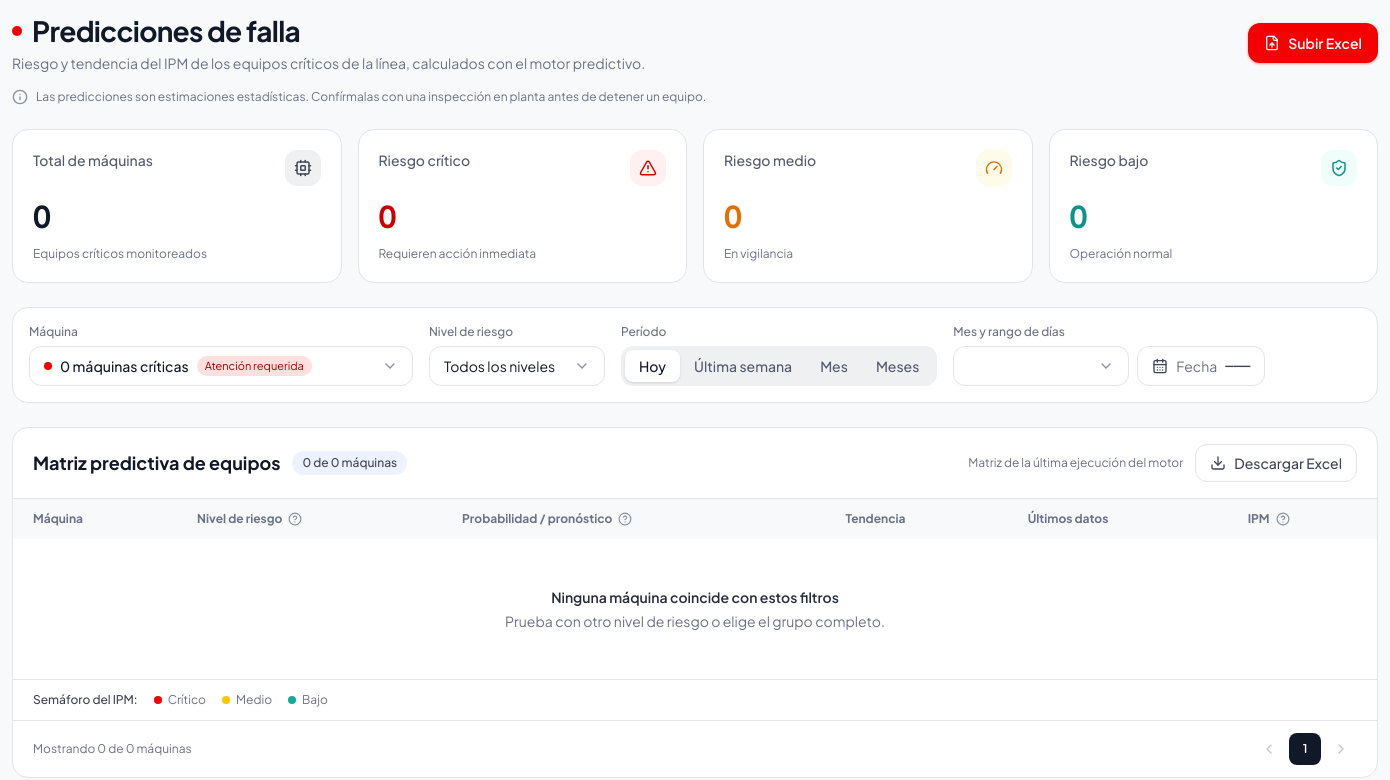
Test: Predicciones · tooltip del encabezado IPM › renderiza InfoTip junto a "IPM" y muestra el texto completo al enfocarlo
Expected: the column heading "IPM" is shown, [1228,499,1377,539]
Focus the element named "¿Qué es el IPM?" at x=1283, y=519, box [1276,512,1290,526]
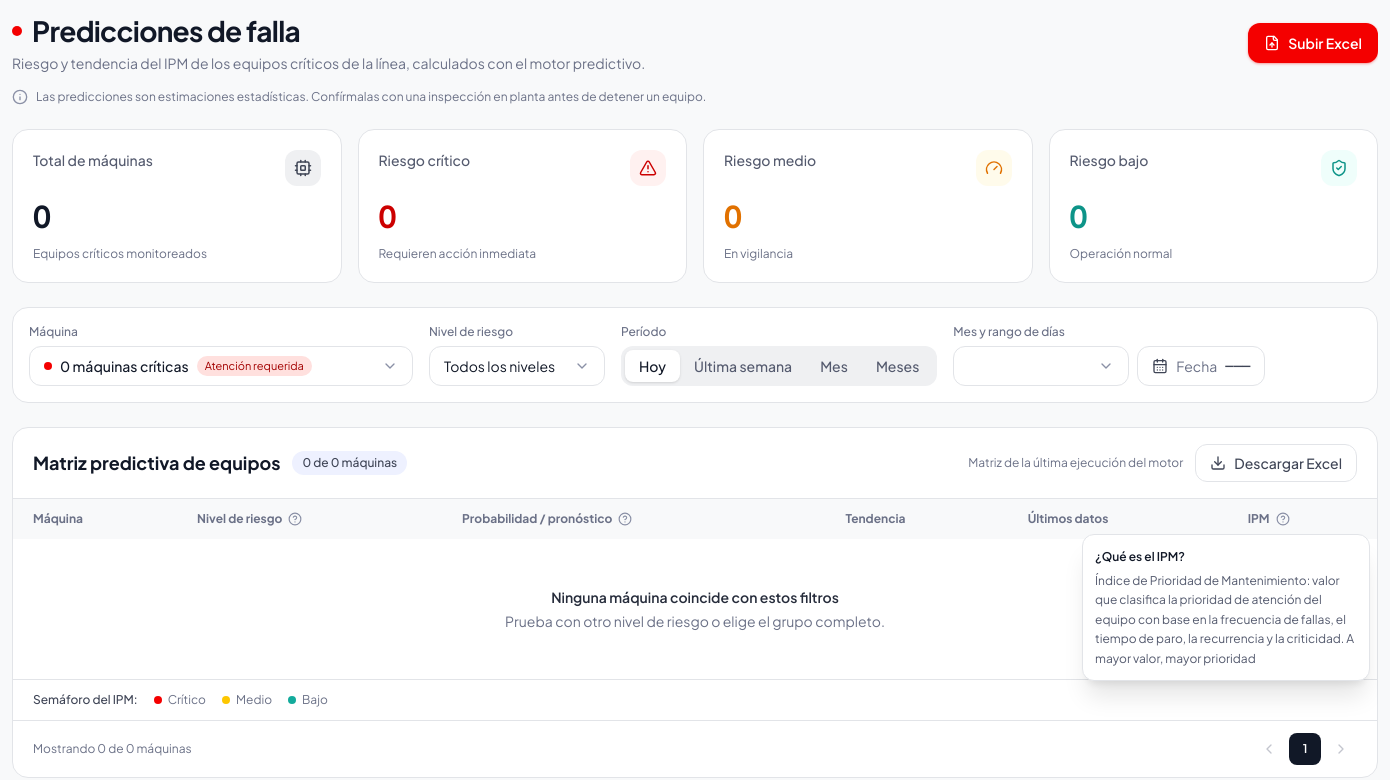
Result: the tooltip shows "Índice de Prioridad de Mantenimiento: valor que clasifica la prioridad de atención del equipo con base en la frecuencia de fallas, el tiempo de paro, la recurre" at [1095,572,1354,666]
